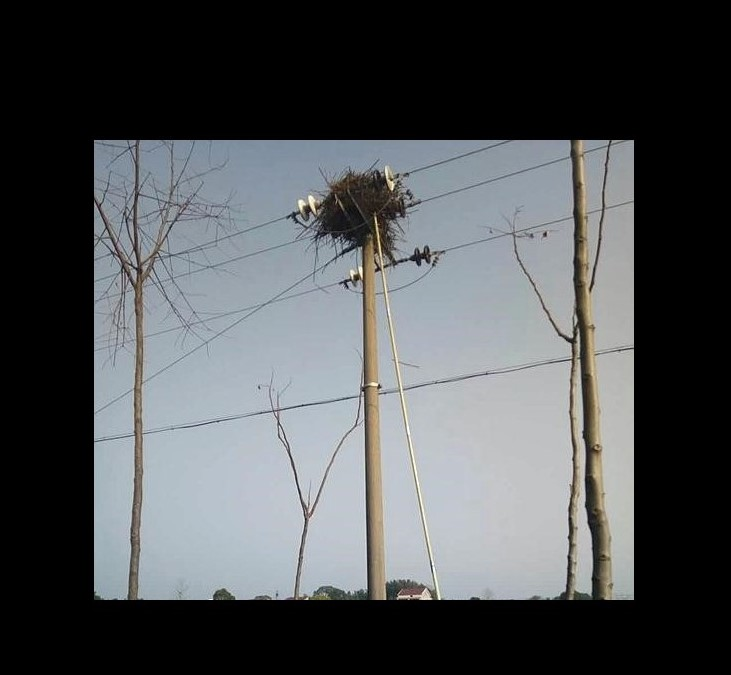niaowo: (303, 162, 416, 252)
